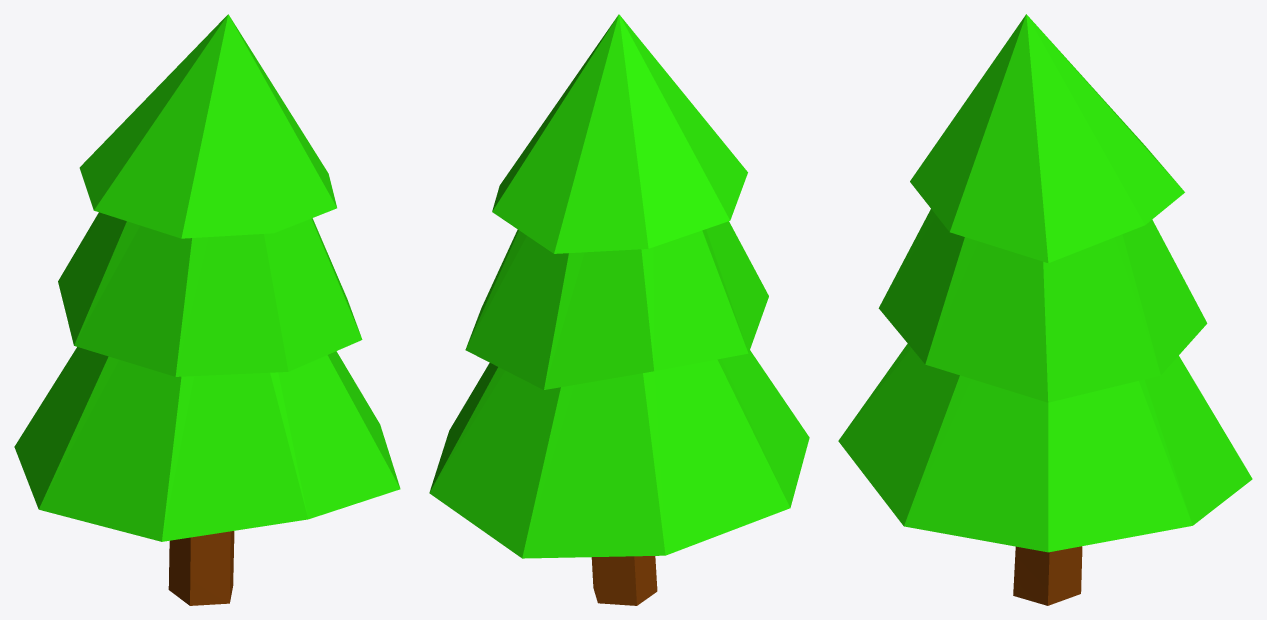
The model's file is 3D_TreeSmall.FBX.
3 renders of one model, left to right at view 1: azimuth 30°, elevation 25°; view 2: azimuth 150°, elevation 25°; view 3: azimuth 270°, elevation 25°, orthographic. The views are drawn at different scales.
Parts seen in each view (by area): view 1: Trunk; view 2: Trunk; view 3: Trunk.
Boxes of the visible parts, <box> form: Trunk: <box>14,14,400,605</box>; Trunk: <box>429,14,809,605</box>; Trunk: <box>838,14,1252,605</box>.
Size of the model in its own units: 165 by 172 by 267.
